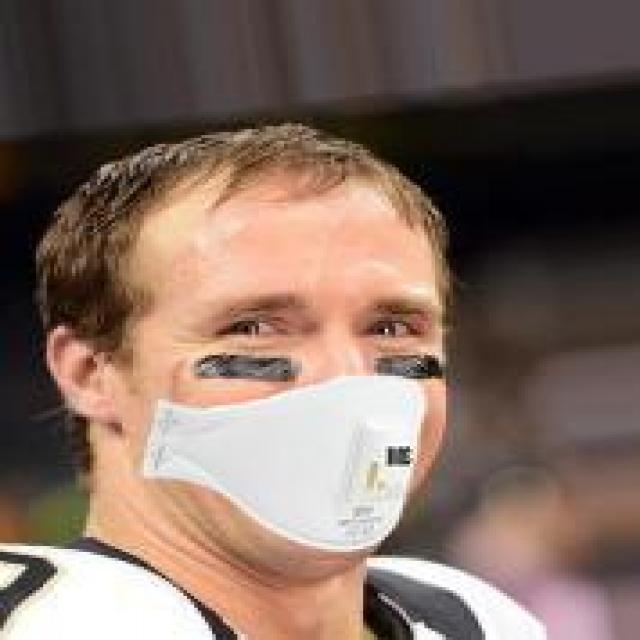mask: (72, 112, 485, 549)
